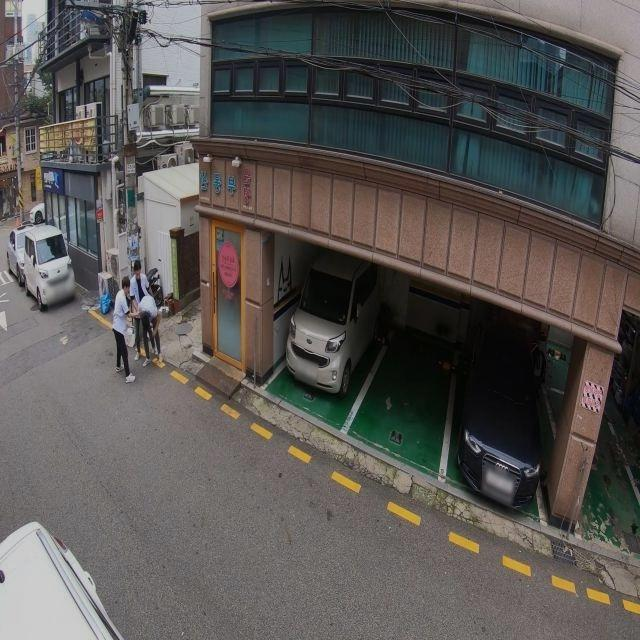fight: (111, 264, 162, 381)
